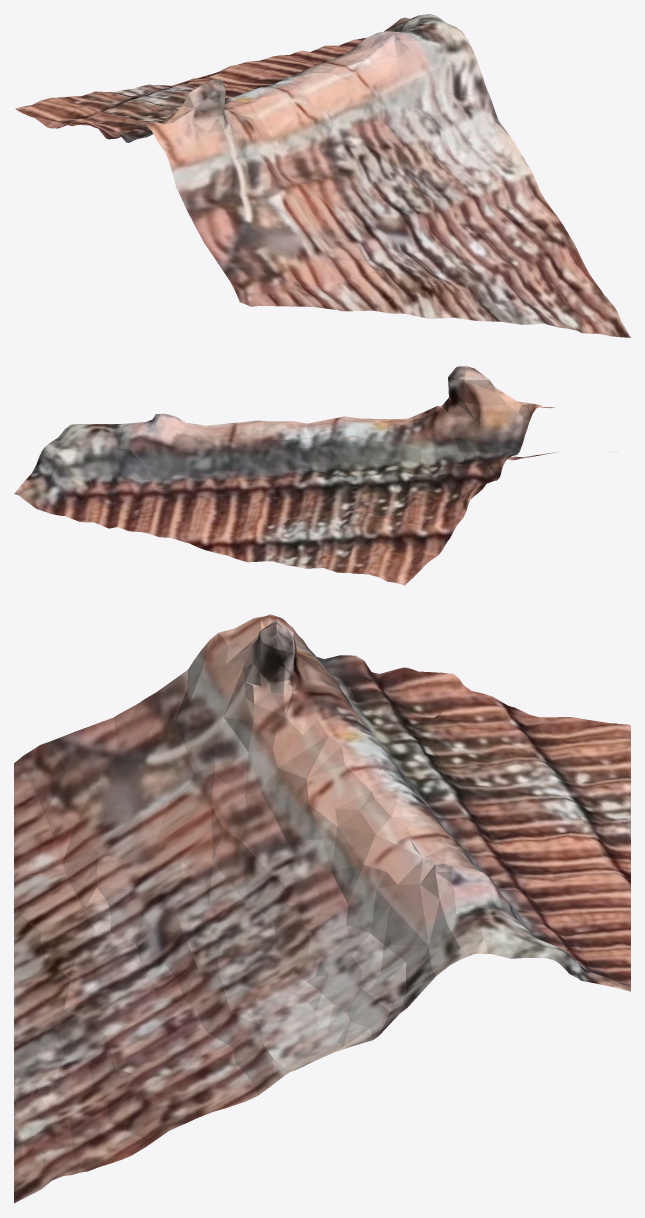
3 views of the same model, one above another, from view 1: azimuth 30°, elevation 25°; view 2: azimuth 150°, elevation 25°; view 3: azimuth 270°, elevation 25° (orthographic). The views are drawn at different scales.
Bounding box in the file's own units: 1.67 × 1.09 × 1.67.
3 materials, 3 textured.
